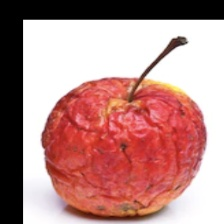apple: (19, 63, 209, 202)
